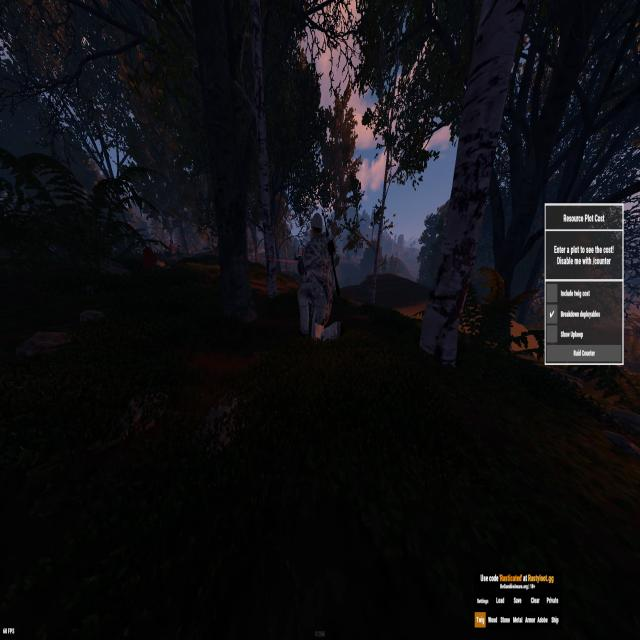Player: (297, 212, 342, 340)
